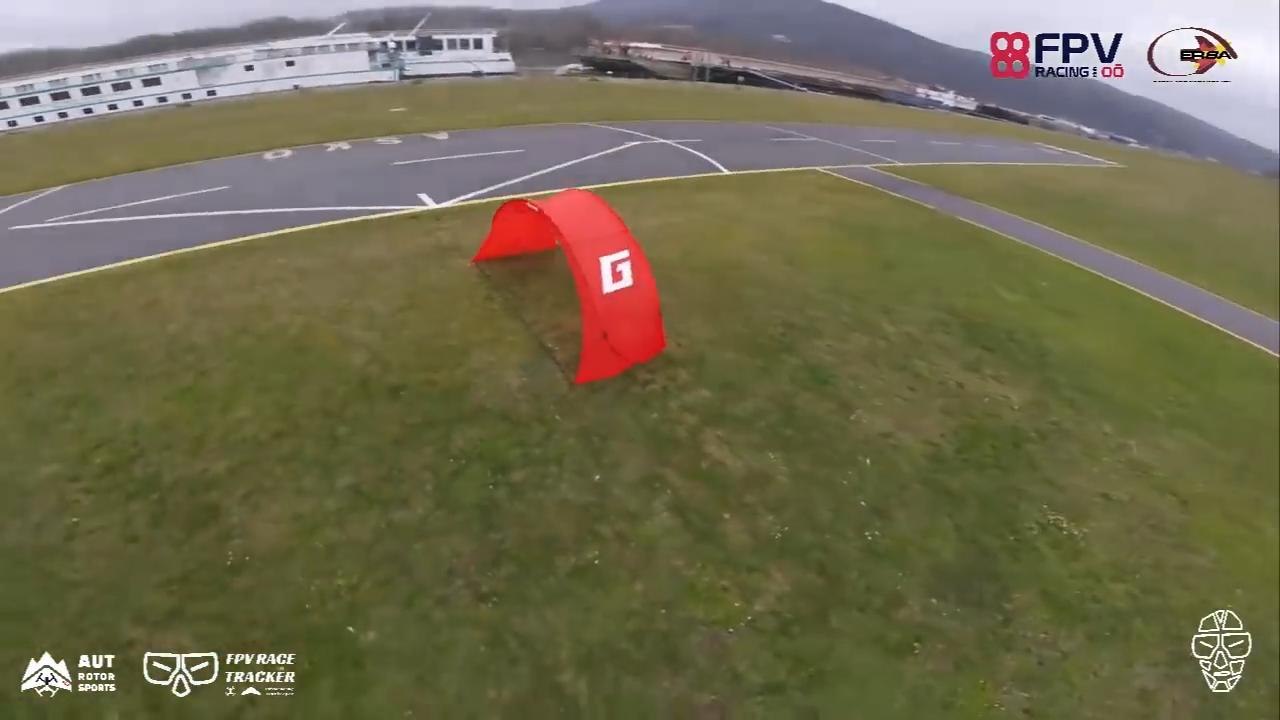gate: (472, 186, 671, 388)
